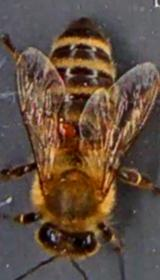varroa_mite: (53, 117, 78, 140)
